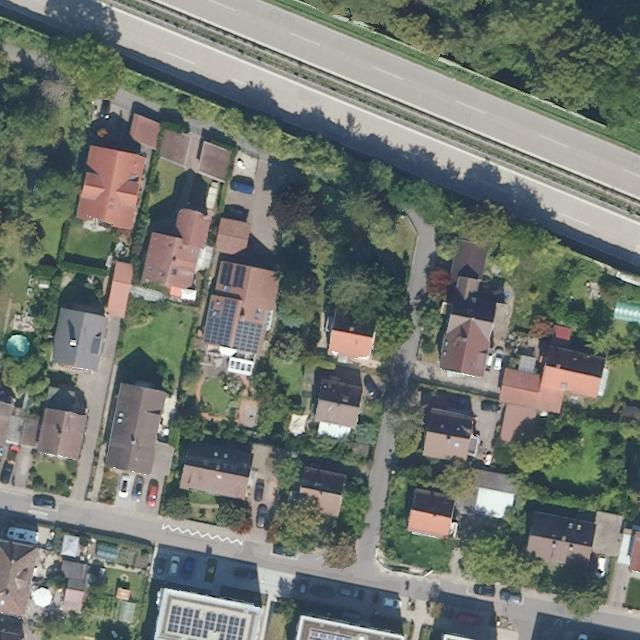PV: (165, 604, 248, 639), (202, 298, 239, 348), (231, 319, 264, 355), (307, 629, 359, 639), (217, 262, 235, 287), (231, 265, 248, 290)
